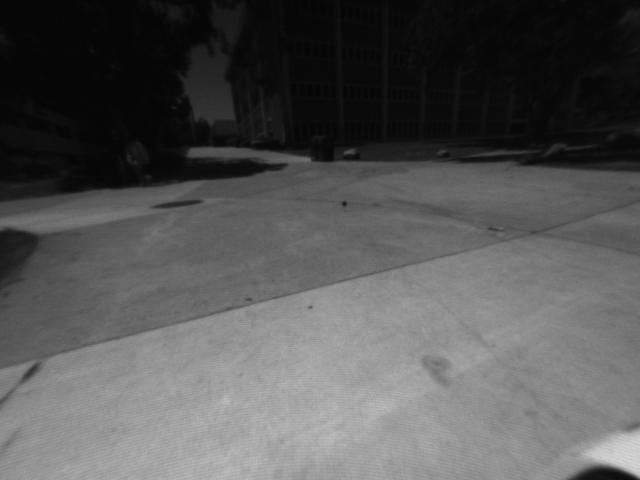dogtoy: (334, 194, 355, 211)
